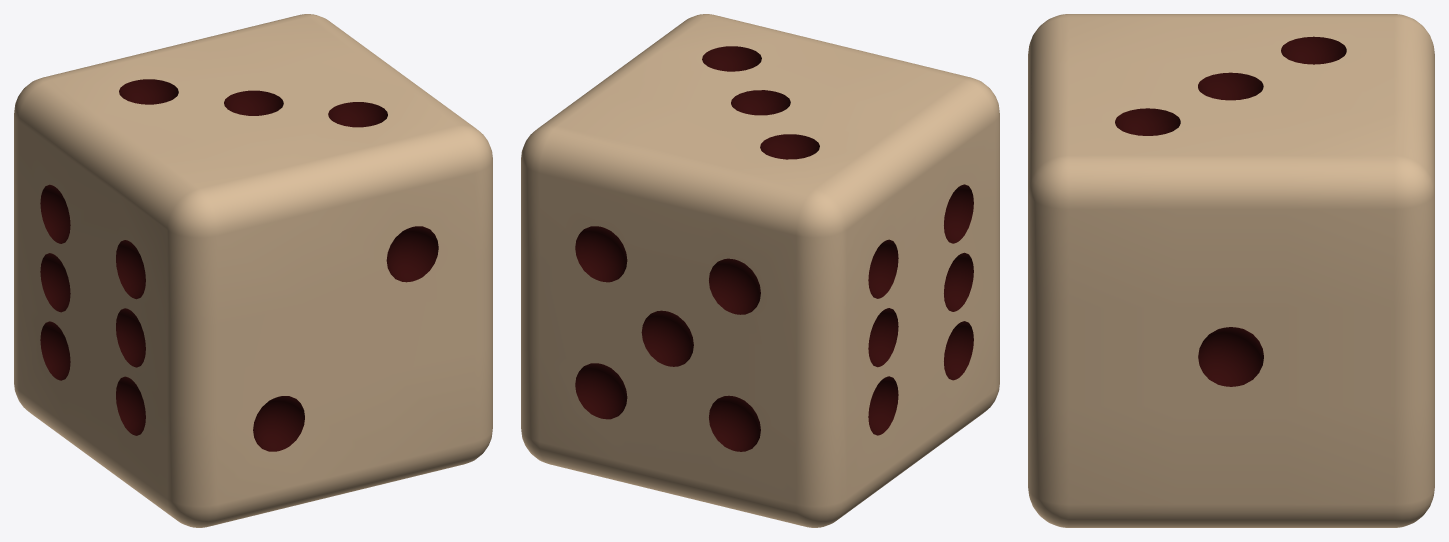
File: CUB.dae
The picture shows the model from 3 angles, left to right: view 1: azimuth 30°, elevation 25°; view 2: azimuth 150°, elevation 25°; view 3: azimuth 270°, elevation 25°; orthographic projection. The views are drawn at different scales.
Visible parts, largest first — view 1: Объект_Куб.1; view 2: Объект_Куб.1; view 3: Объект_Куб.1.
Boxes of the visible parts, left/top/right/bottom form: Объект_Куб.1: left=14, top=14, right=492, bottom=527; Объект_Куб.1: left=521, top=14, right=999, bottom=527; Объект_Куб.1: left=1028, top=14, right=1434, bottom=527.
Size of the model in its own units: 20 by 20 by 20.
